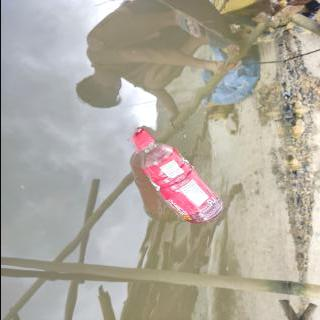bottle: (126, 126, 227, 225)
